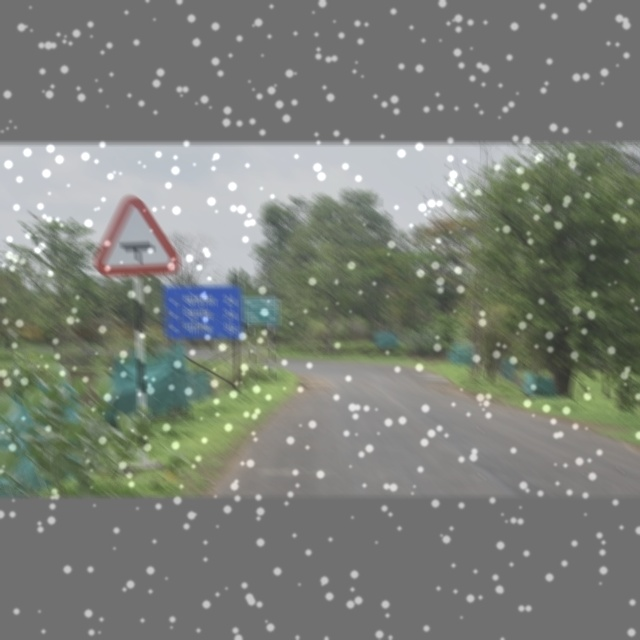T_Intersection: (88, 187, 188, 281)
